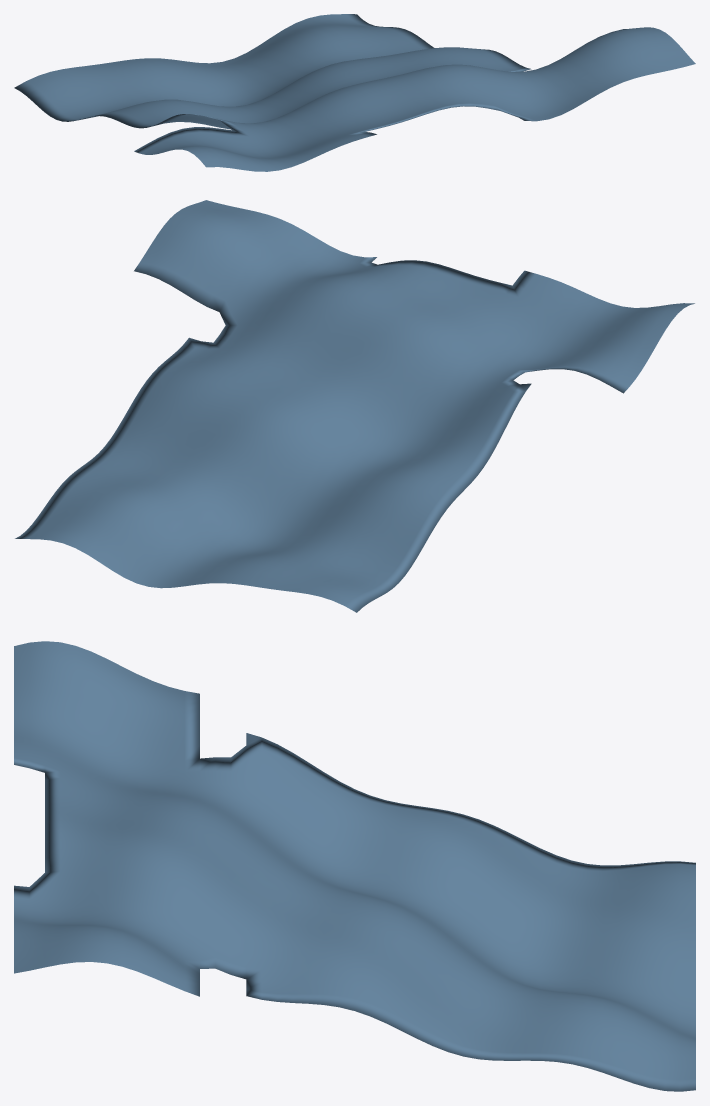
Rendered from tshirtCrumpled.glb.
3 renders of one model, top to bottom at view 1: azimuth 30°, elevation 25°; view 2: azimuth 150°, elevation 25°; view 3: azimuth 270°, elevation 25°, orthographic. The views are drawn at different scales.
Visible parts, largest first — view 1: shirt; view 2: shirt; view 3: shirt.
Boxes of the visible parts, x1,y1,x2,y2 form: shirt: (14,14,695,171); shirt: (15,200,694,612); shirt: (14,641,695,1091).
Size of the model in its own units: 0.495 by 0.156 by 0.465.
